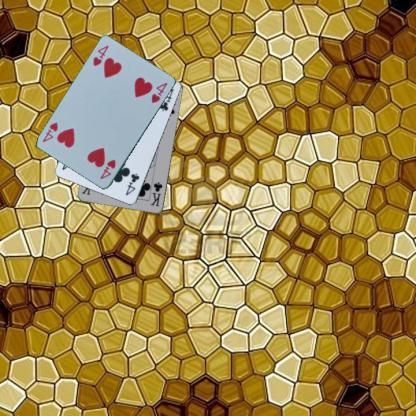4c: (123, 171, 141, 197)
4h: (90, 42, 110, 68), (97, 157, 117, 181)
Kc: (148, 180, 164, 207)
